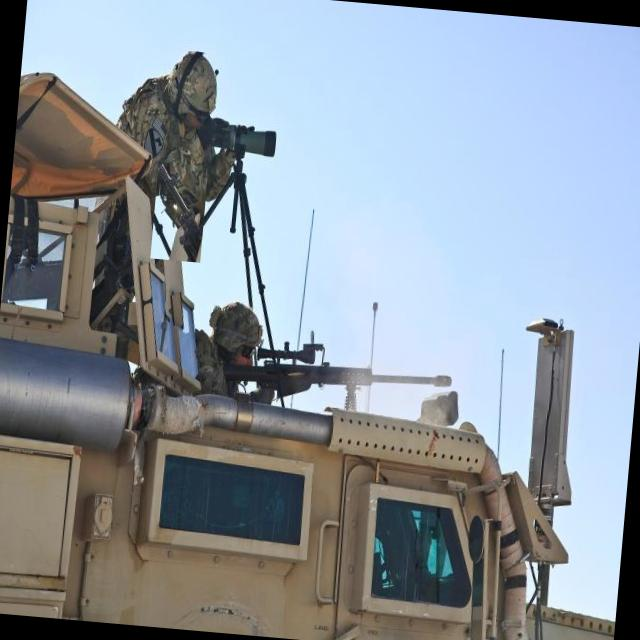Gun: (224, 334, 451, 410), (157, 162, 202, 262)
